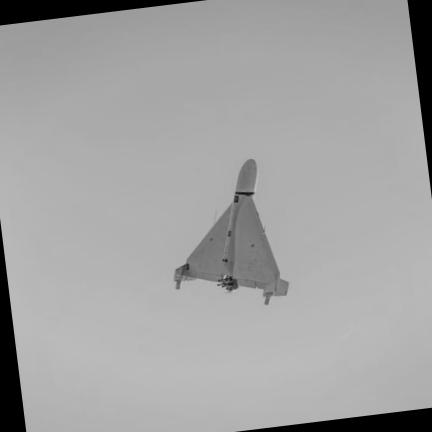Shahed: (173, 159, 287, 303)
